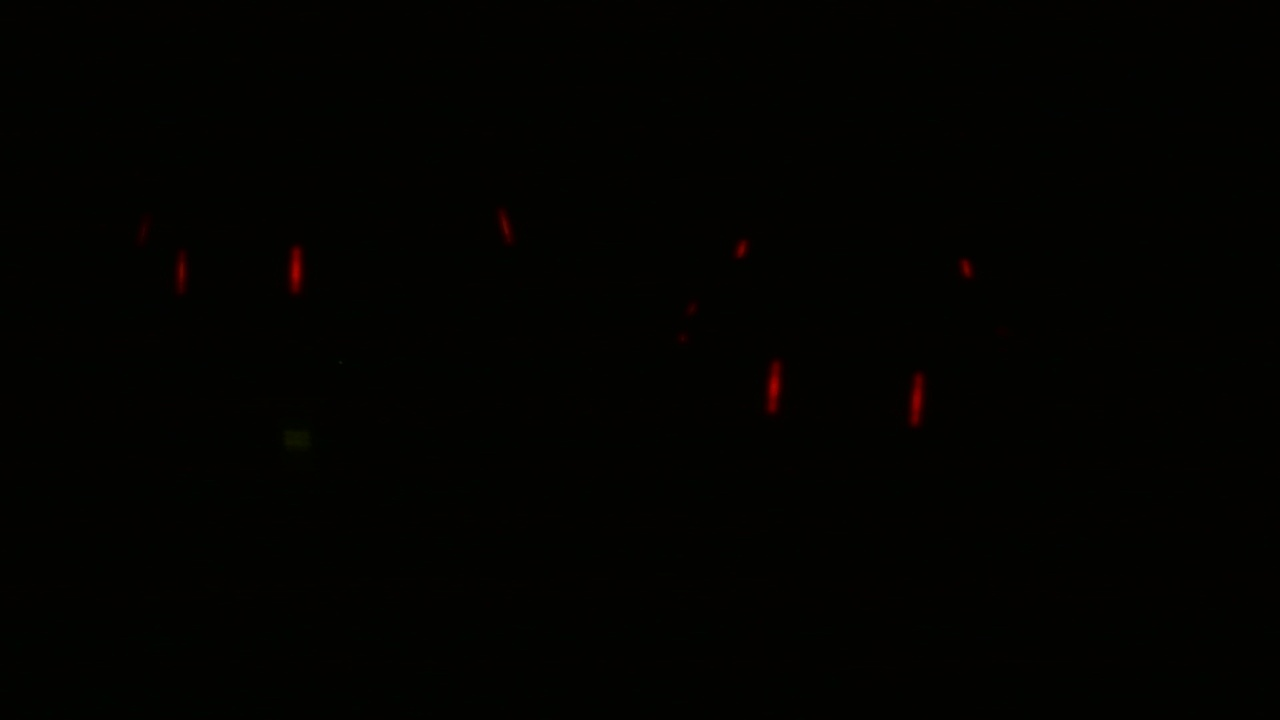pair1: (763, 349, 930, 433), (163, 231, 308, 308)
